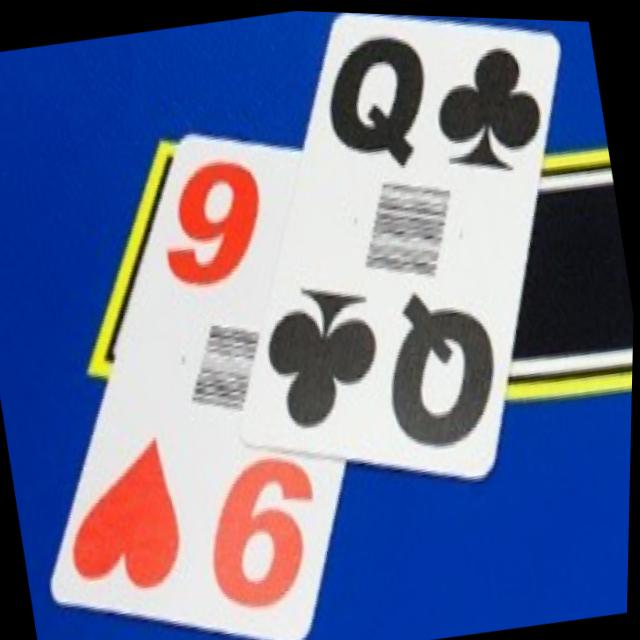Card-9: (54, 131, 348, 638)
Card-Q: (243, 10, 558, 472)
